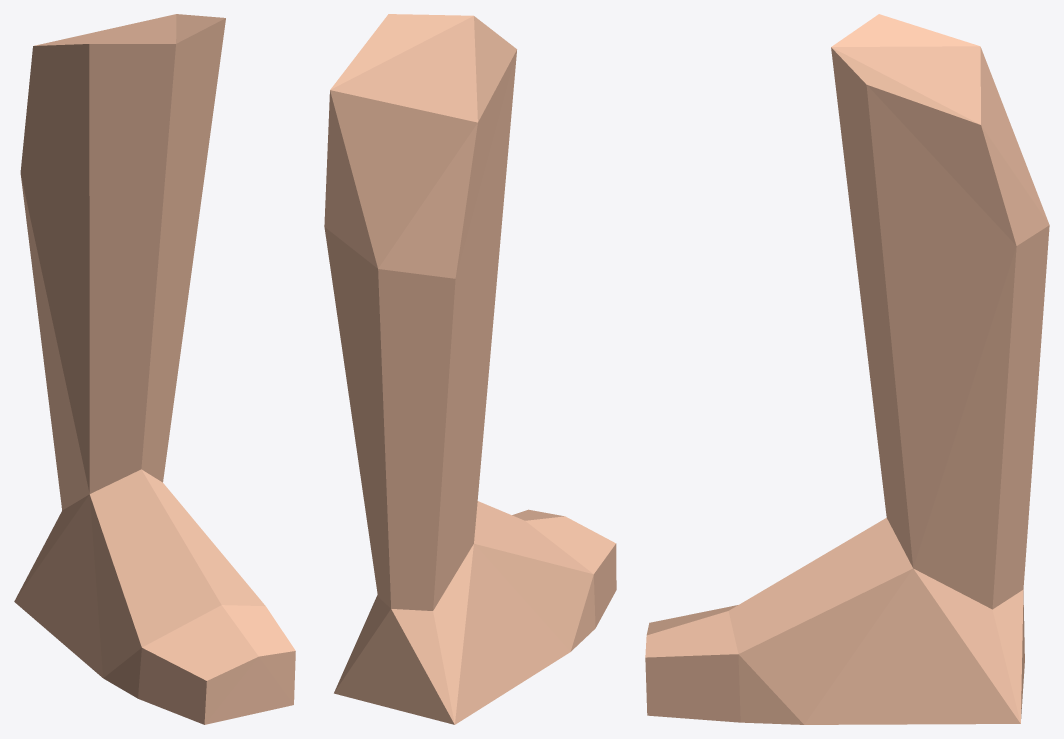
File: Chr_LegRight_Female_00_Static.fbx
3 views of the same model, side by side, from view 1: azimuth 30°, elevation 25°; view 2: azimuth 150°, elevation 25°; view 3: azimuth 270°, elevation 25° (orthographic). The views are drawn at different scales.
Visible parts, largest first — view 1: Chr_LegRight_Female_00_Static; view 2: Chr_LegRight_Female_00_Static; view 3: Chr_LegRight_Female_00_Static.
Boxes of the visible parts, bbox=[...] form: Chr_LegRight_Female_00_Static: bbox=[14, 14, 295, 724]; Chr_LegRight_Female_00_Static: bbox=[324, 14, 616, 724]; Chr_LegRight_Female_00_Static: bbox=[645, 14, 1049, 724].
Size of the model in its own units: 0.1065 by 0.4015 by 0.2258.
